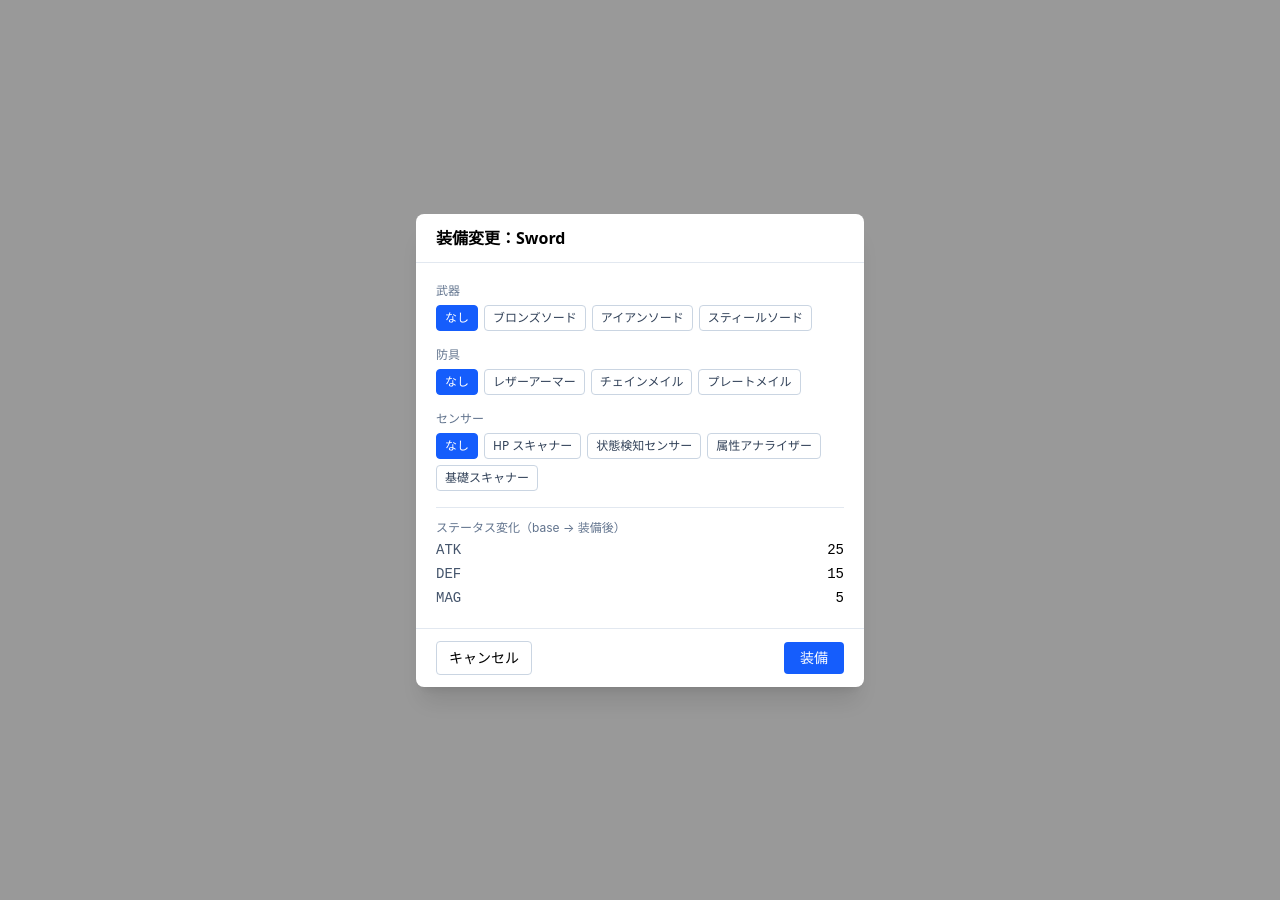
Test: EquipmentPicker - 効果プレビュー › STEEL_SWORD 選択で ATK のプレビュー差分が表示される
Click the button "スティールソード": click(755, 318) [699,304,812,330]
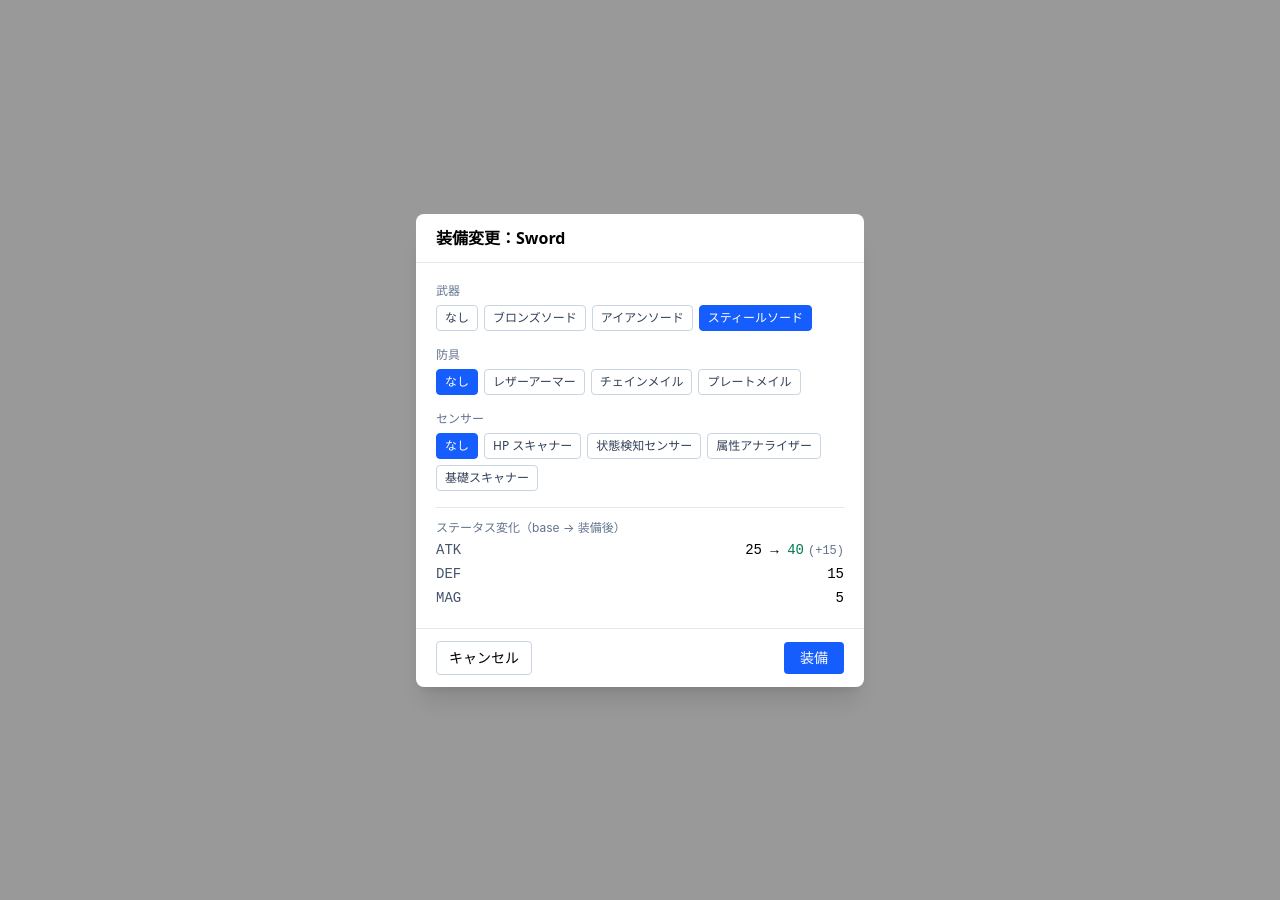
Check: the text "40" is shown, box [787,542,804,558]
Check: the text "(+15)" is shown, box [808,544,844,558]
